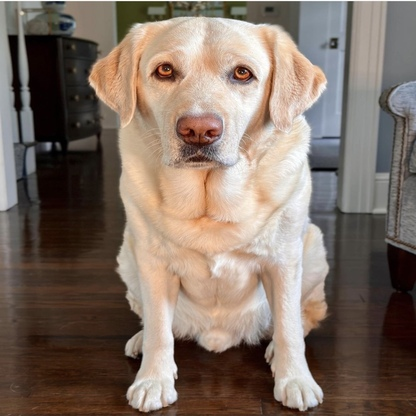labrado: (83, 12, 338, 416)
